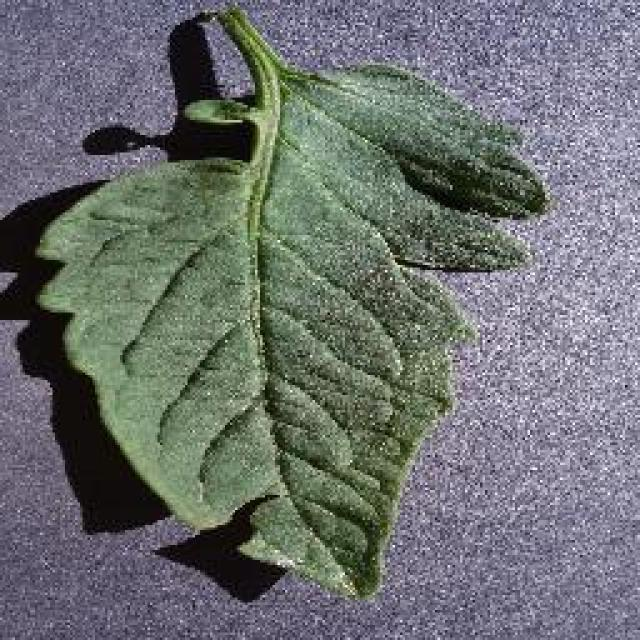Tomato___healthy: (34, 7, 548, 605)
